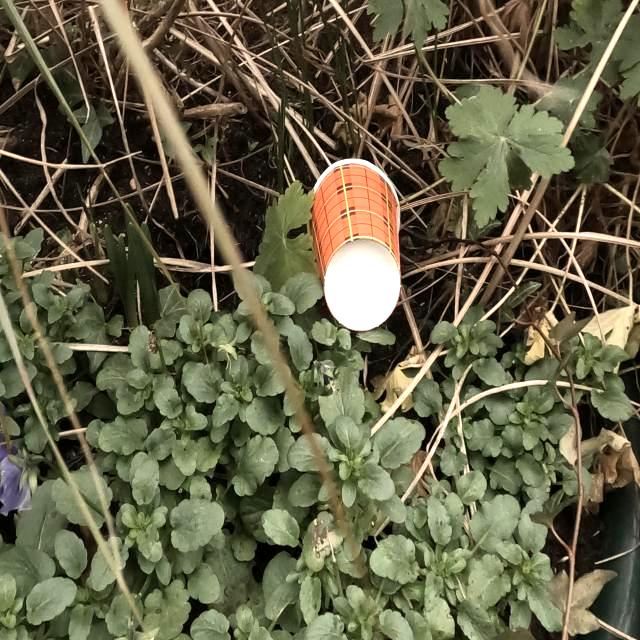Coffee Cup: (309, 156, 403, 334)
